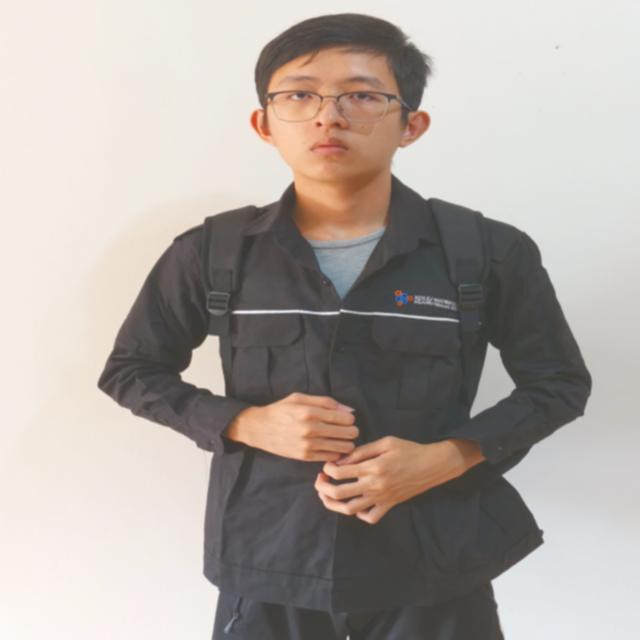person_with_labcoat: (99, 14, 590, 640)
